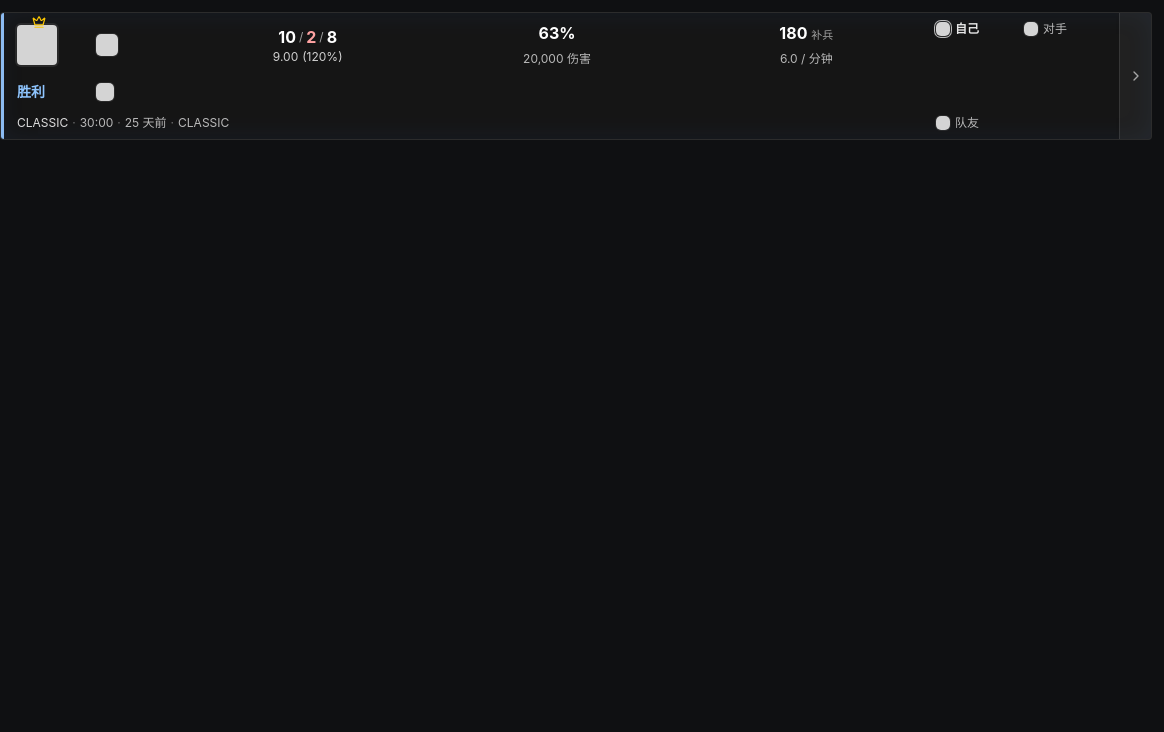
Test: LeagueDetailedMatchCard › shows purchase, sale and evolved-skill build events with a player navigator
Click the button named "展开战绩详情": (1135, 76) [1119,13,1151,139]
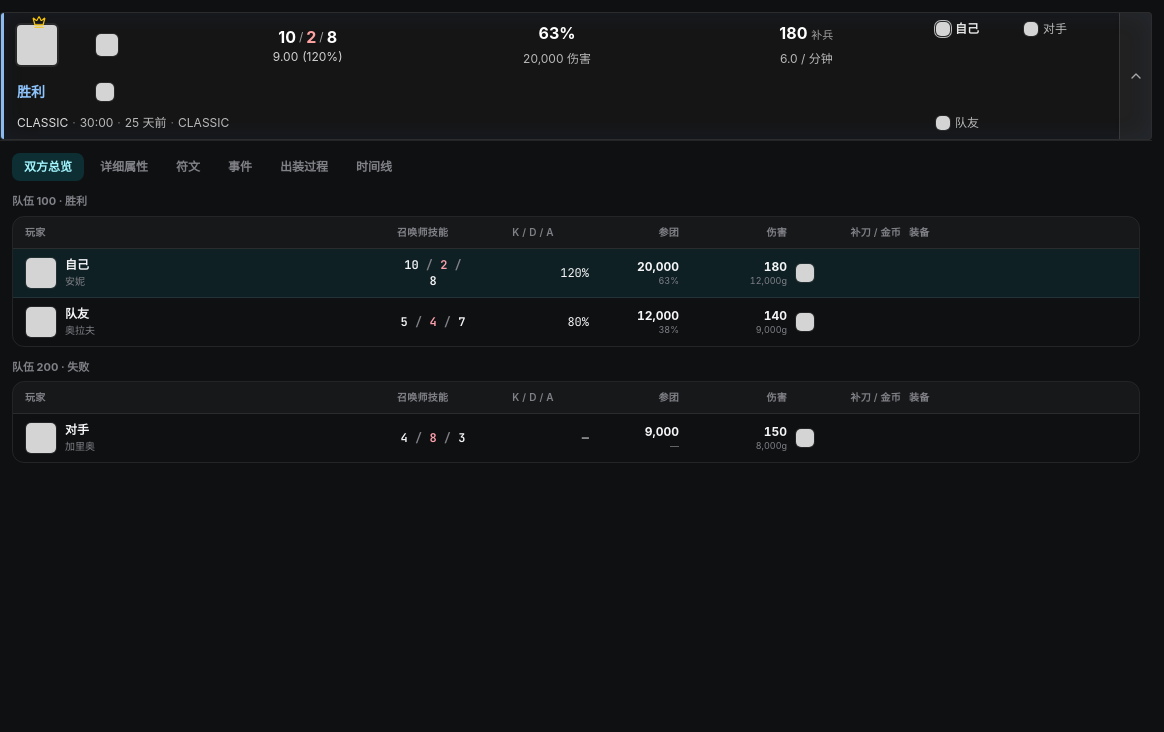
Click the button "出装过程": (304, 167) [268,153,340,181]
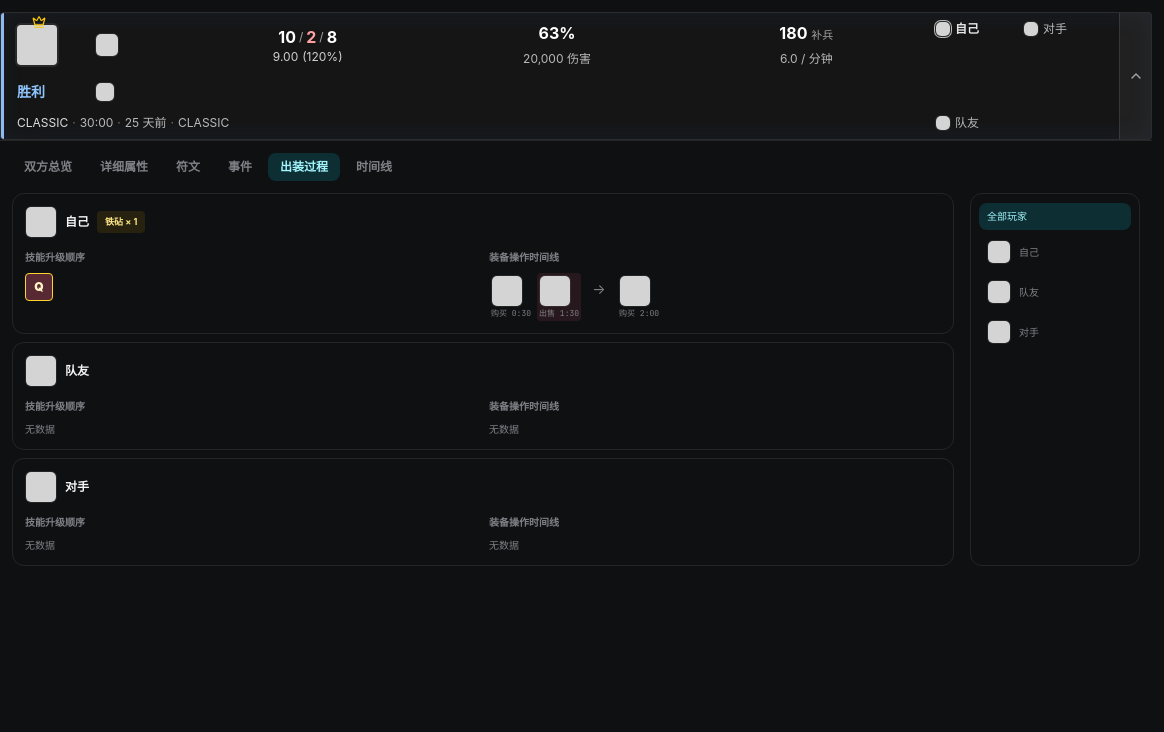
Check: the text "出售 1:30" is shown, box [539,307,579,319]
Check: the text titled "1:00 · EVOLVE" is shown, box [25,273,53,301]
Check: the text "铁砧 × 1" is shown, box [97,211,145,233]
Click the 2nd button "队友": (1055, 292) [979,274,1131,310]
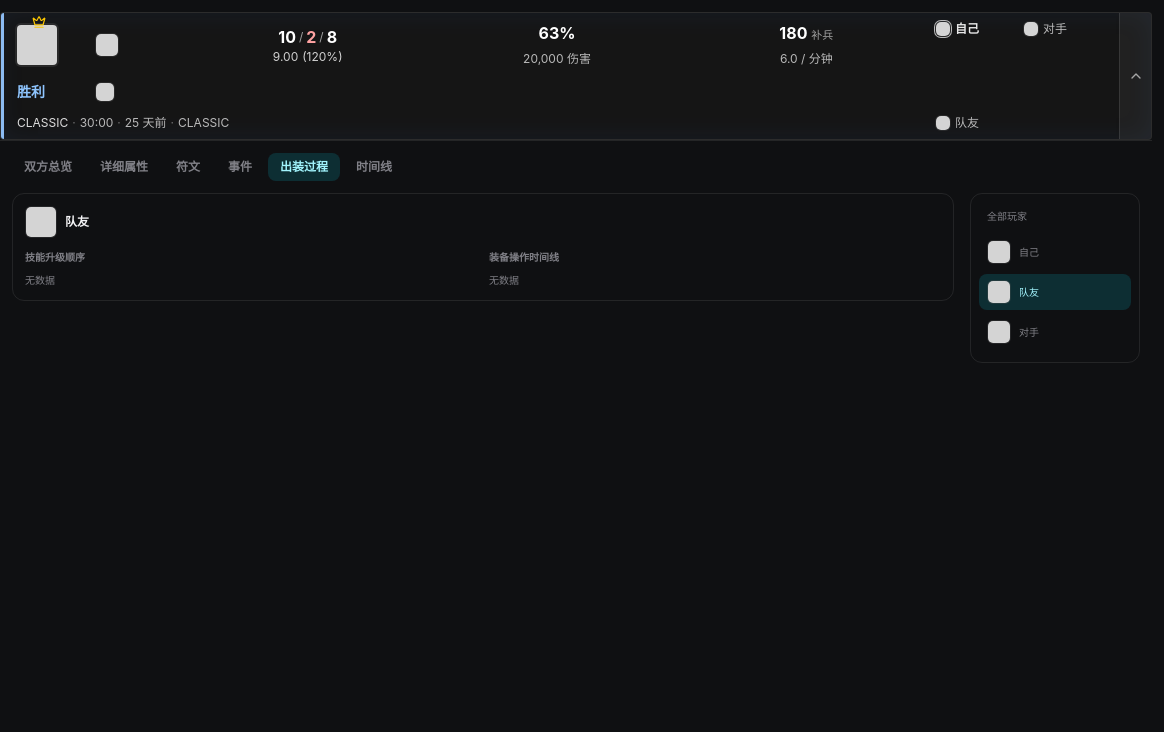
Check: the text "无数据" is shown 2 times, box [25,273,55,288]; [489,273,519,288]
